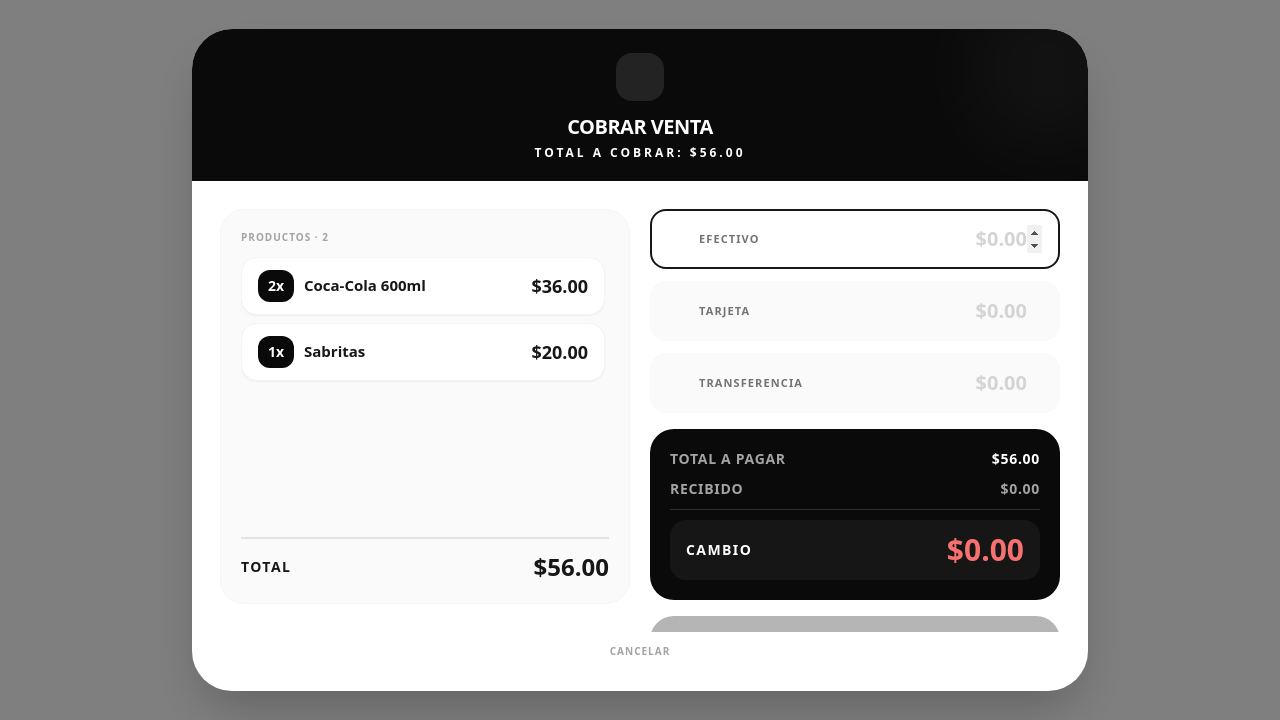
ventas · guard de cobro insuficiente › habilita los botones justo cuando el pago cubre el total
Type "56" into the number field with placeholder "$0.00" next to "Efectivo" at (932, 239), box x1=823 y1=225 x2=1042 y2=253
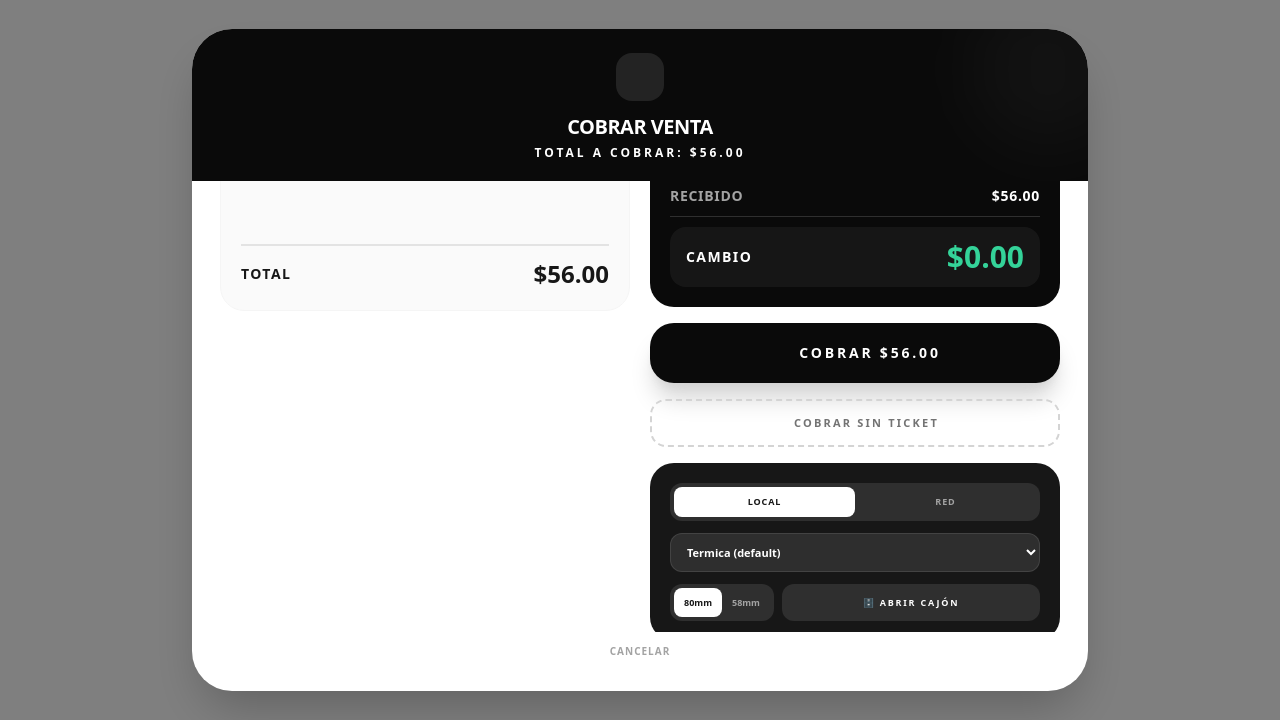
Check: the button "Cobrar $56.00" is enabled, box x1=650 y1=323 x2=1060 y2=383
Check: the button "Cobrar sin ticket" is enabled, box x1=650 y1=399 x2=1060 y2=447
